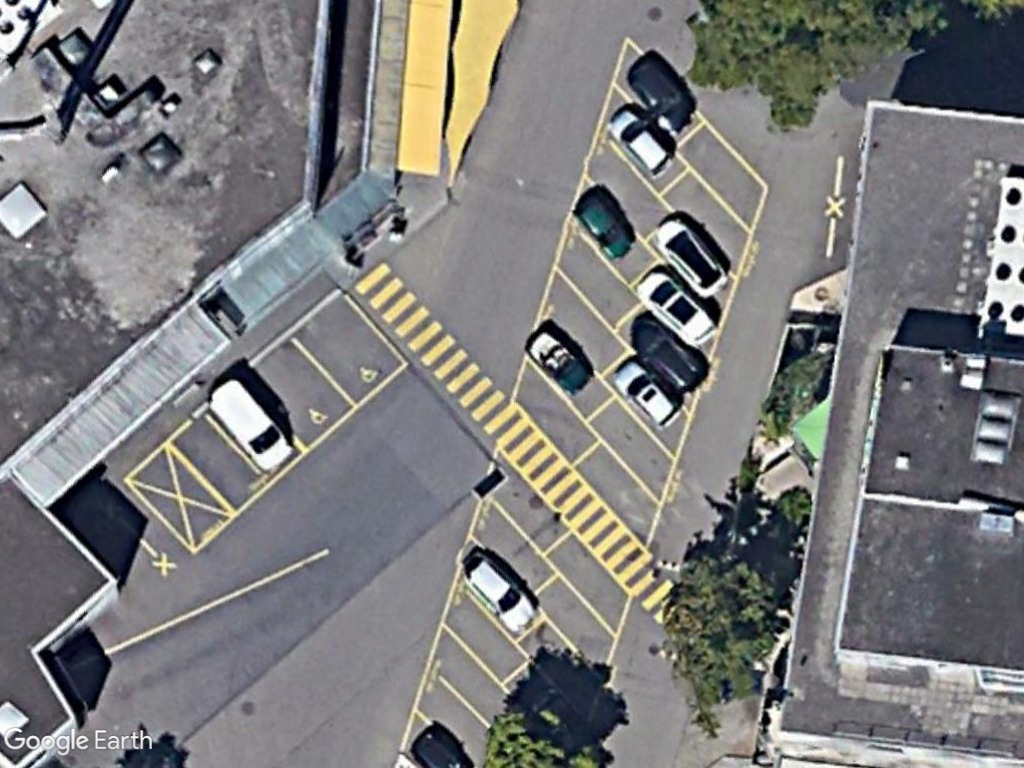car: (637, 265, 718, 349), (461, 549, 536, 634), (613, 356, 683, 432), (605, 108, 675, 180), (572, 185, 630, 266)
van: (207, 377, 297, 478)
